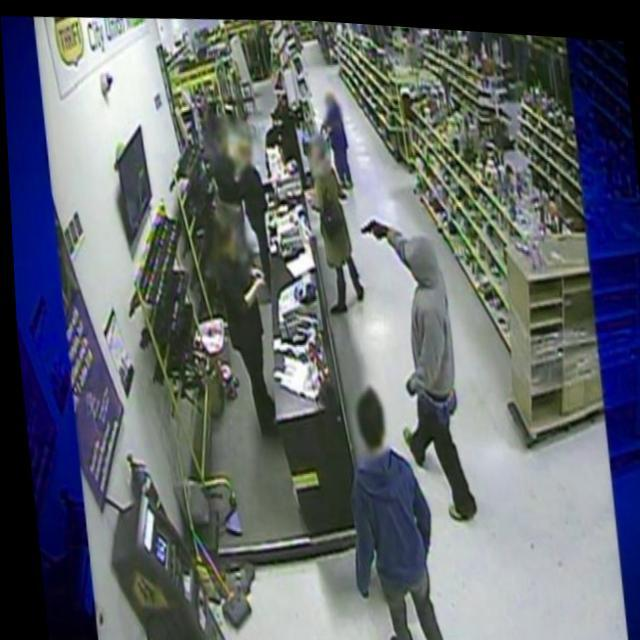weapon: (355, 208, 384, 242)
